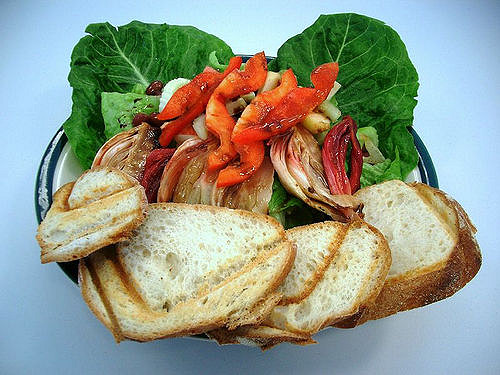chopped lettuce: (297, 19, 415, 181), (61, 21, 208, 142)
slice of bread: (88, 208, 288, 331), (344, 187, 478, 319), (283, 228, 379, 325), (43, 182, 148, 254)
